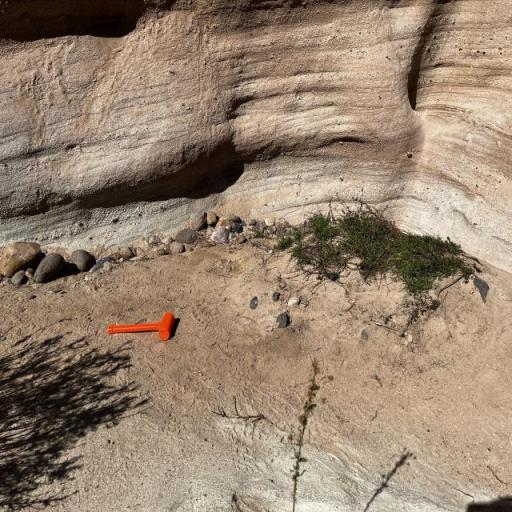mallet: (106, 310, 178, 342)
